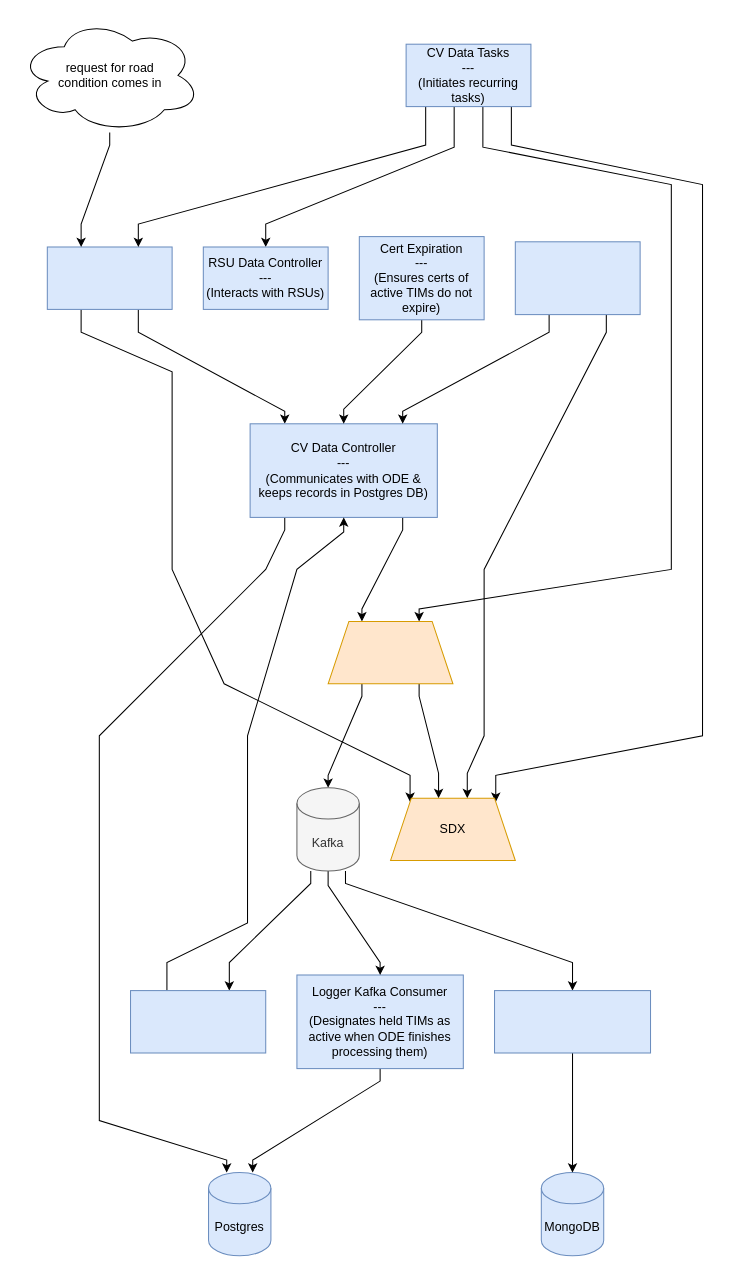
This 729x1274 diagram has some shape labels left out. The shapes that lost their labels are listed below. From the top down, each one's centre as x and y in pixels, then its label:
the point at 109,277: ODE Wrapper --- (User interface)
the point at 577,278: Tim Refresh --- (Ensures active TIMs do not expire)
the point at 390,652: ODE
the point at 197,1021: ODE Data Logger --- (Logs BSM data to Postgres DB)
the point at 572,1021: ODE Mongo Logger --- (Logs copies of messages to Mongo DB)
